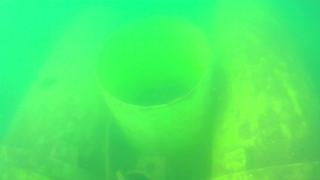pipe: (1, 1, 113, 180), (209, 1, 320, 179), (94, 14, 221, 157)
